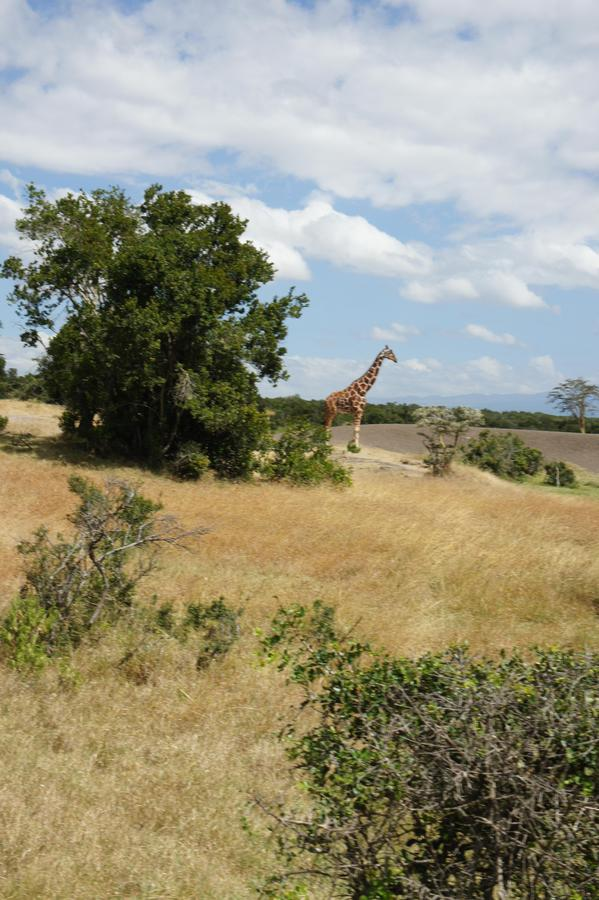giraffe: (320, 343, 400, 454)
